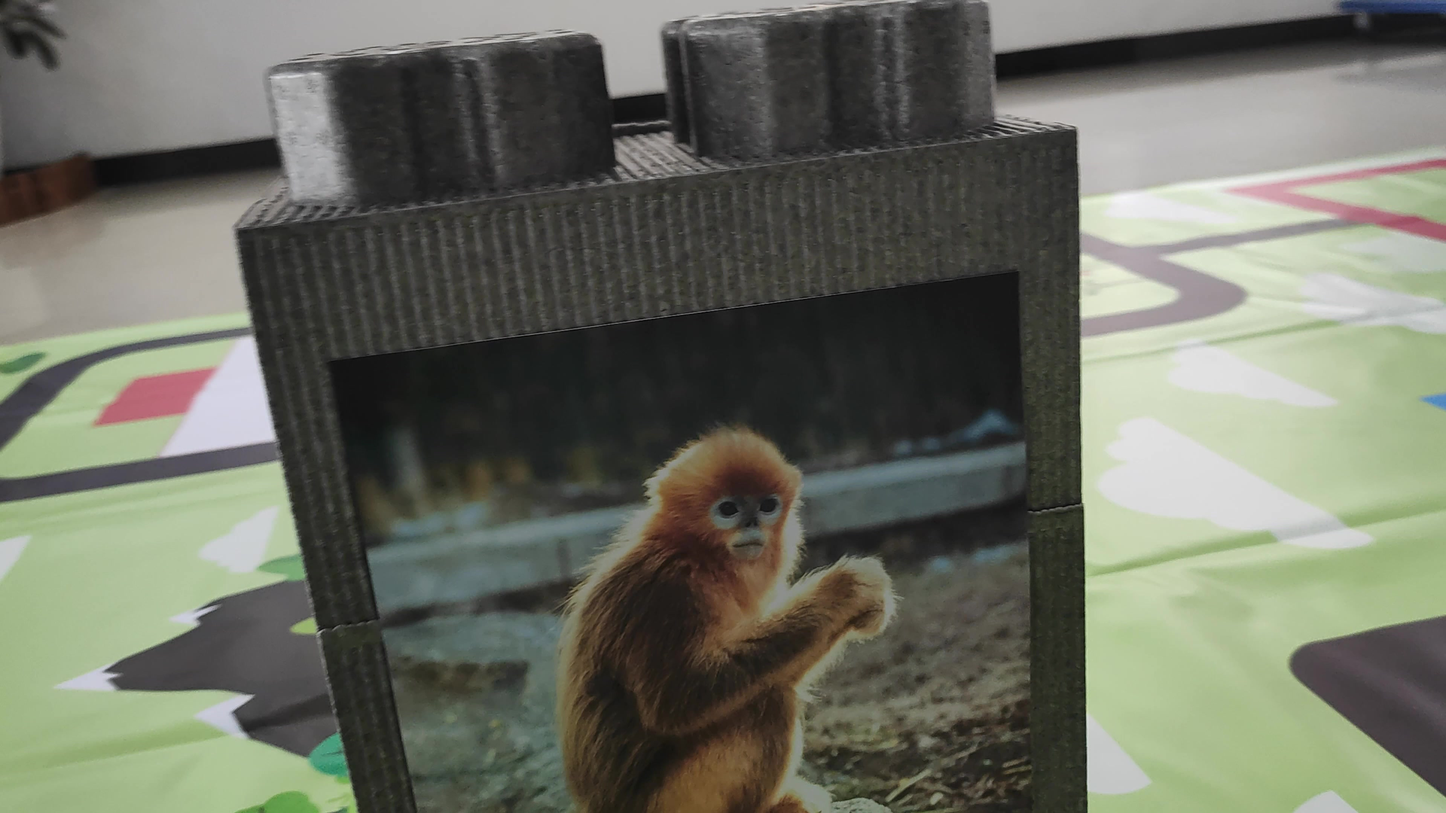monkey: (505, 402, 909, 813)
